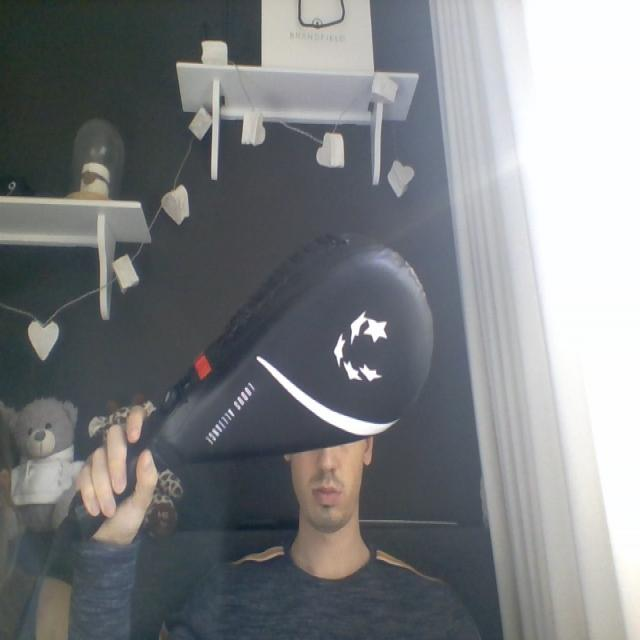paddle: (71, 234, 437, 530)
